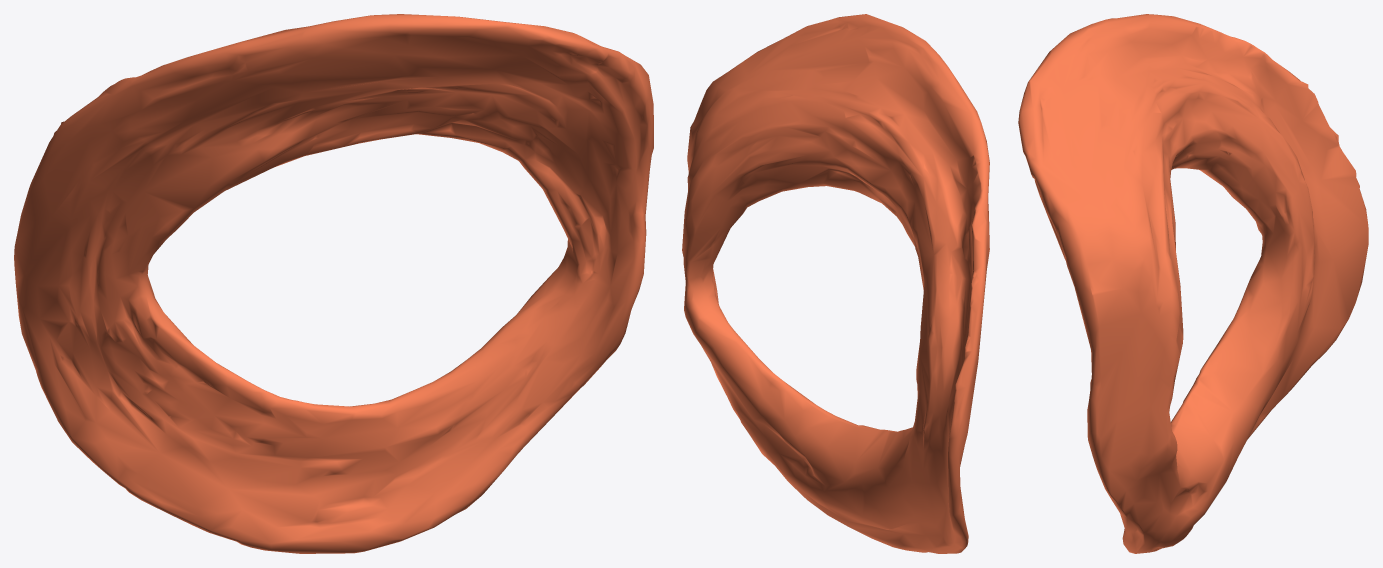
File: Orbicularis_oculi_orbital_part_right.glb
3 renders of one model, left to right at view 1: azimuth 30°, elevation 25°; view 2: azimuth 150°, elevation 25°; view 3: azimuth 270°, elevation 25°, orthographic. The views are drawn at different scales.
Parts seen in each view (by area): view 1: Orbital_part_of_orbicularis_oculi.r_Generated_Mesh_From_X3D.; view 2: Orbital_part_of_orbicularis_oculi.r_Generated_Mesh_From_X3D.; view 3: Orbital_part_of_orbicularis_oculi.r_Generated_Mesh_From_X3D..
Part boxes in pixels (x1,y1,x2,y2): Orbital_part_of_orbicularis_oculi.r_Generated_Mesh_From_X3D.: (14, 14, 653, 553); Orbital_part_of_orbicularis_oculi.r_Generated_Mesh_From_X3D.: (682, 14, 989, 553); Orbital_part_of_orbicularis_oculi.r_Generated_Mesh_From_X3D.: (1018, 14, 1368, 553).
Size of the model in its own units: 0.0443 by 0.0497 by 0.0314.
